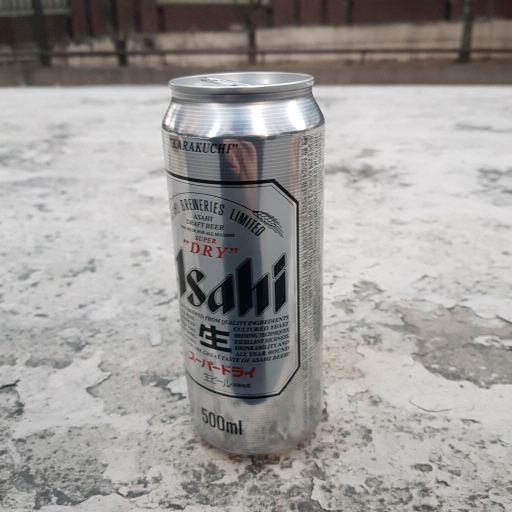Metal_0: (161, 70, 330, 457)
